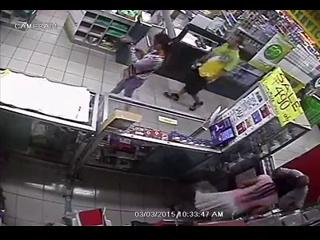Normal: (164, 34, 244, 111), (108, 35, 172, 98)
